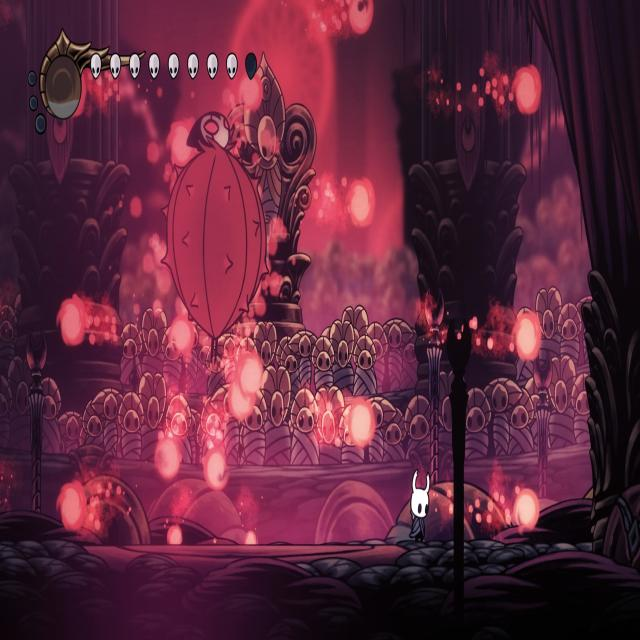Player: (408, 461, 434, 543)
Pufferfish: (158, 108, 273, 366)
Tiny Fireballs: (230, 352, 265, 422), (59, 481, 87, 534), (58, 295, 86, 346), (514, 312, 542, 362), (514, 68, 542, 118), (348, 398, 374, 447), (237, 353, 264, 397), (349, 180, 374, 227), (169, 120, 193, 168), (157, 437, 182, 481), (515, 489, 540, 532), (229, 381, 255, 422), (205, 448, 229, 488), (170, 318, 194, 357), (348, 1, 373, 36), (241, 76, 263, 113)
